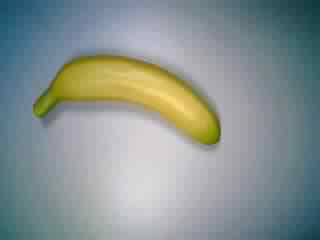banana: (30, 49, 221, 156)
